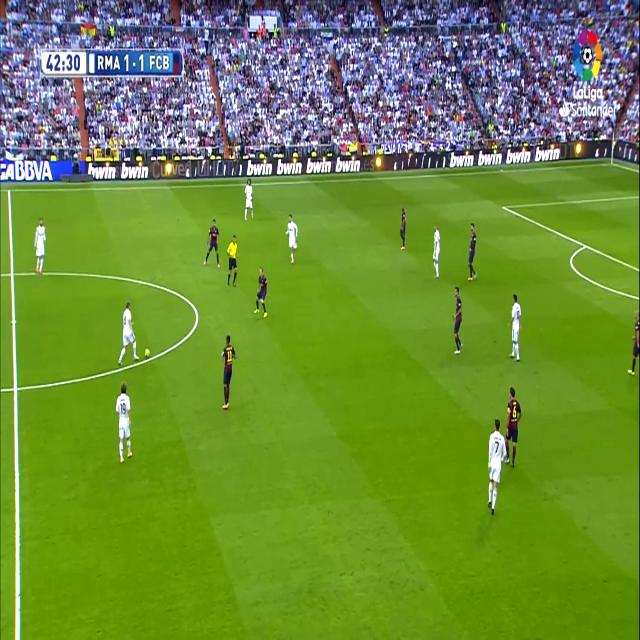corner: (608, 157, 615, 167)
halfcircle_bottom: (8, 372, 22, 404)
halfcircle_top: (6, 262, 18, 284)
midline_top_intersection: (6, 183, 14, 197)
top_arc_area_intersection: (581, 238, 589, 252)
